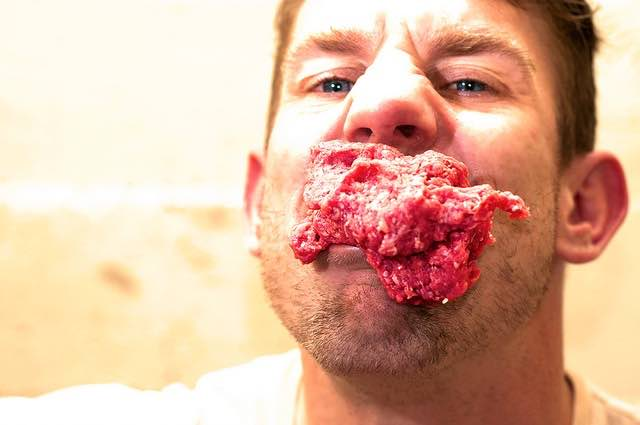ground_beef: (293, 151, 494, 273)
